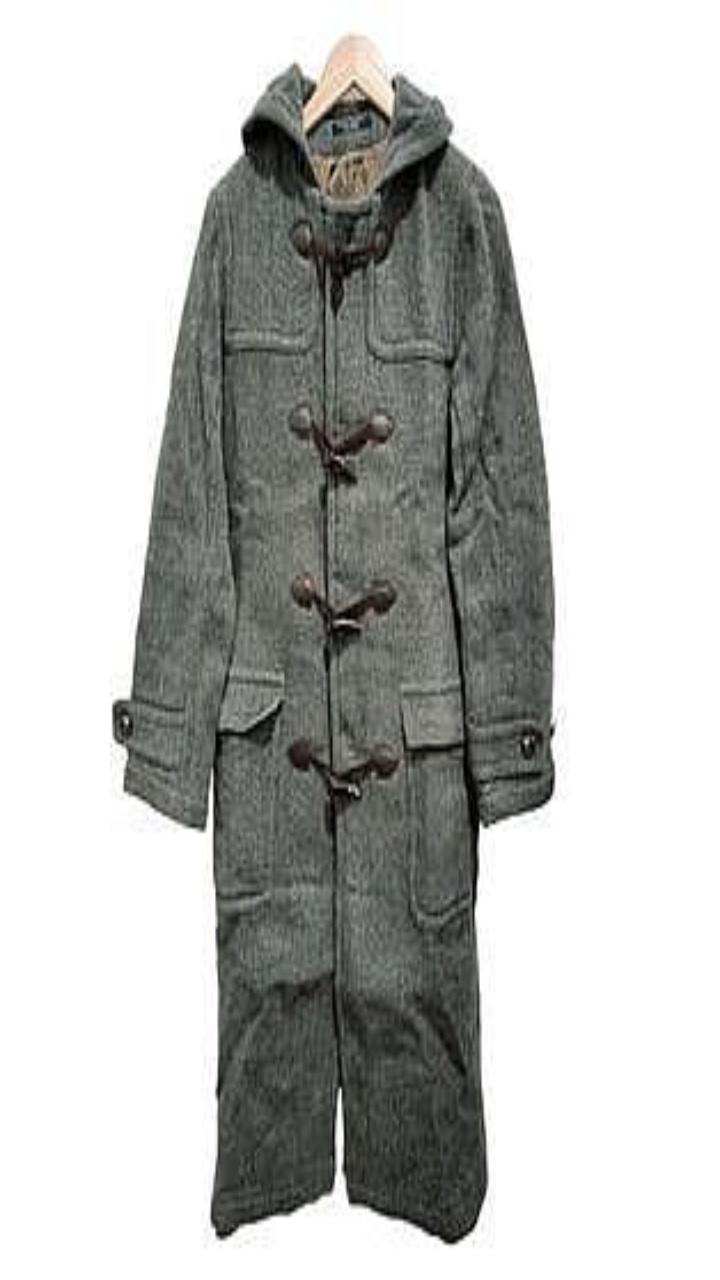Coat: (114, 63, 553, 1239)
